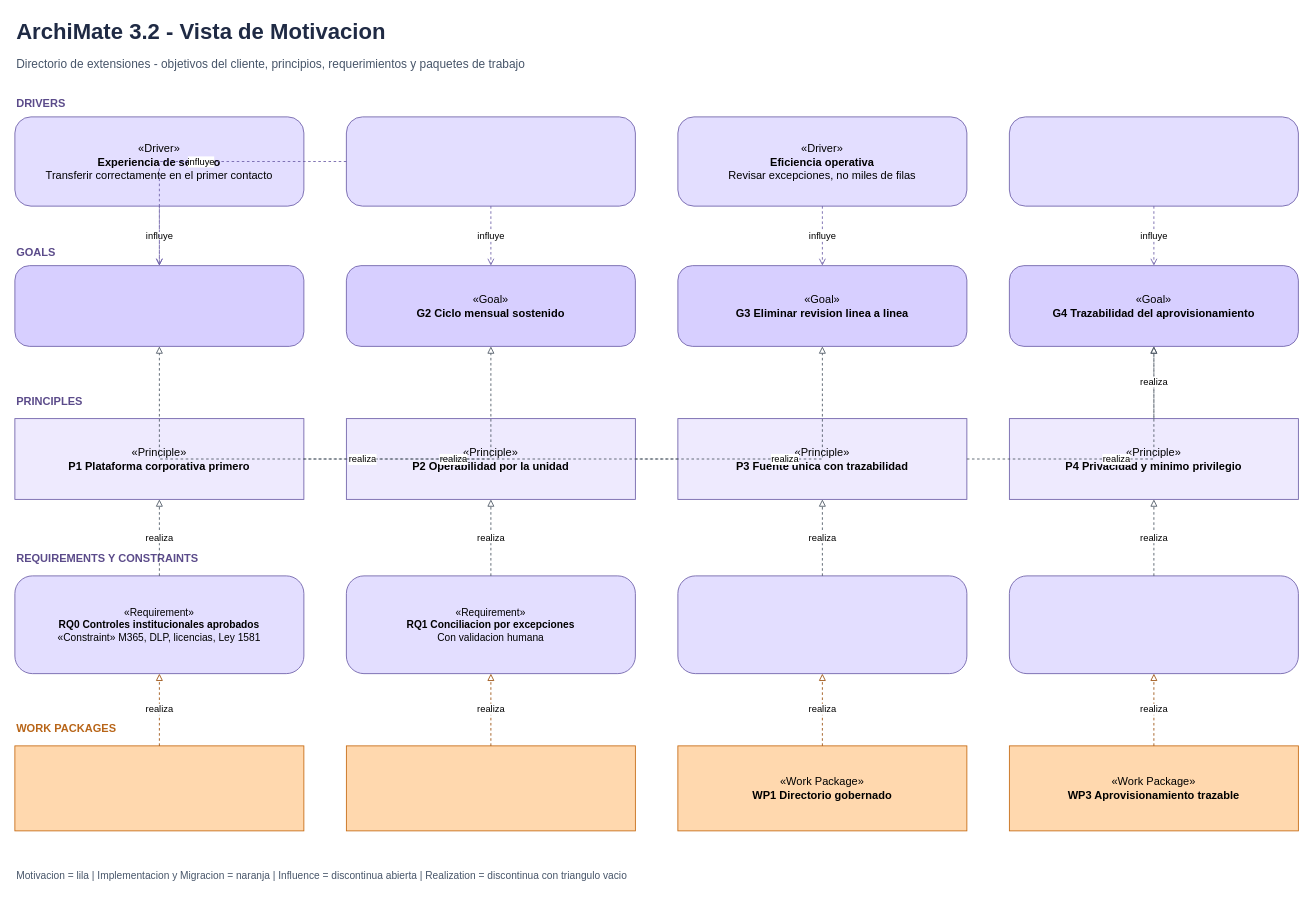
The diagram is 1313 pixels wide and 904 high, and some of its shapes have lost their labels. Each missing label, with the centre of its shape:
«Driver» Calidad del dato Informacion vigente y confiable: [490,161]
«Driver» Cumplimiento y seguridad Datos personales bajo control institucional: [1153,161]
«Goal» G1 Directorio vigente y confiable: [159,305]
«Requirement» RQ2 Solicitud + RQ3 confirmacion Identidad, estados y escalamiento: [1153,624]
«Requirement» RQ4 Llave estable y catalogos Id Empleado como texto: [822,624]
«Work Package» WP0 Habilitacion y control: [159,788]
«Work Package» WP2 Conciliacion automatizada: [490,788]
